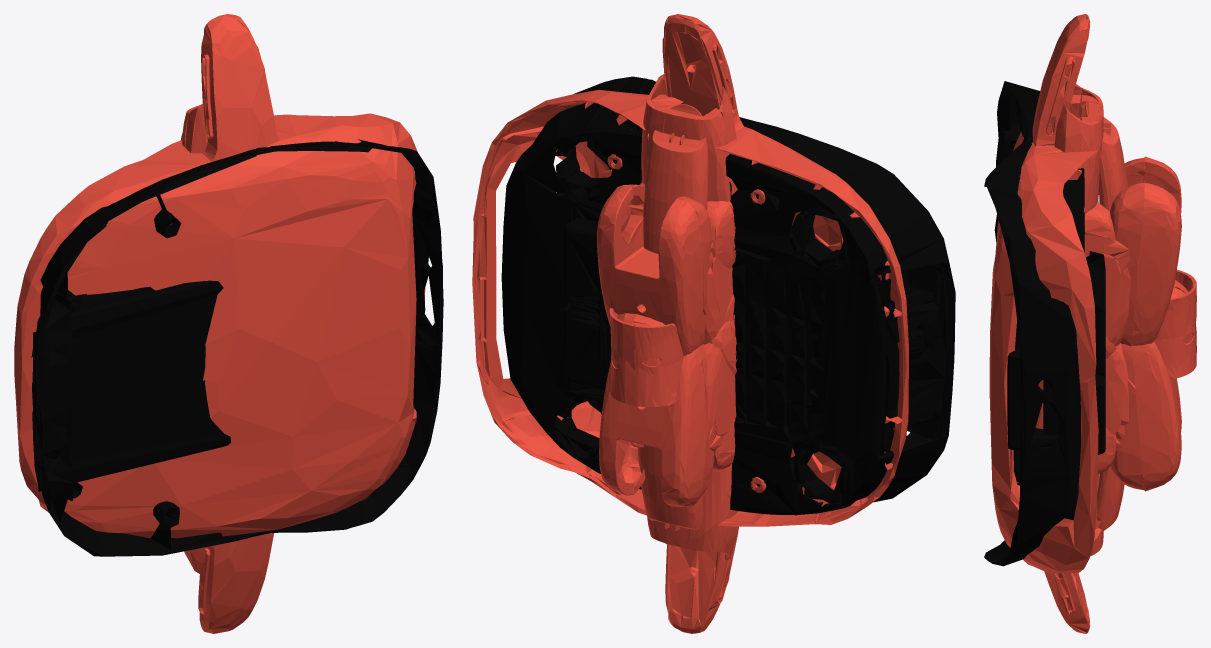
File: crab.glb
The picture shows the model from 3 angles, left to right: view 1: azimuth 30°, elevation 25°; view 2: azimuth 150°, elevation 25°; view 3: azimuth 270°, elevation 25°; orthographic projection.
Parts seen in each view (by area): view 1: upper_shell_link, base_link, LF_palm_link, RF_palm_link, LM_calf_link; view 2: base_link, upper_shell_link, LM_hip_link, RM_hip_link, LF_palm_link, RF_palm_link, LF_finger_link, LM_calf_link, RM_calf_link, RF_shoulder_link, LF_shoulder_link, RF_finger_link (+2 smaller); view 3: base_link, upper_shell_link, LM_hip_link, RM_hip_link, LF_palm_link, RF_palm_link, LM_calf_link, LF_finger_link, LF_shoulder_link, RF_shoulder_link, LF_upper_arm_link, RF_finger_link (+1 smaller).
Boxes of the visible parts, <box> form: upper_shell_link: <box>14,113,425,538</box>; base_link: <box>31,139,443,556</box>; LF_palm_link: <box>201,14,279,161</box>; RF_palm_link: <box>198,533,274,633</box>; LM_calf_link: <box>182,103,207,153</box>; base_link: <box>501,76,955,515</box>; upper_shell_link: <box>472,89,908,526</box>; LM_hip_link: <box>597,184,711,355</box>; RM_hip_link: <box>599,344,713,506</box>; LF_palm_link: <box>621,14,743,344</box>; RF_palm_link: <box>630,343,738,633</box>; LF_finger_link: <box>643,104,708,253</box>; LM_calf_link: <box>641,74,737,322</box>; RM_calf_link: <box>647,320,738,559</box>; RF_shoulder_link: <box>609,313,683,407</box>; LF_shoulder_link: <box>609,308,683,375</box>; RF_finger_link: <box>637,445,703,531</box>; base_link: <box>984,81,1105,566</box>; upper_shell_link: <box>989,91,1103,573</box>; LM_hip_link: <box>1110,156,1181,346</box>; RM_hip_link: <box>1111,341,1181,491</box>; LF_palm_link: <box>1032,14,1130,345</box>; RF_palm_link: <box>1035,343,1129,633</box>; LM_calf_link: <box>1054,84,1116,358</box>; LF_finger_link: <box>1085,100,1127,211</box>; LF_shoulder_link: <box>1155,269,1196,343</box>; RF_shoulder_link: <box>1154,280,1196,378</box>; LF_upper_arm_link: <box>1084,203,1115,258</box>; RF_finger_link: <box>1097,466,1124,534</box>.
Bounding box in the file's own units: 0.2121 × 0.288 × 0.0904.
